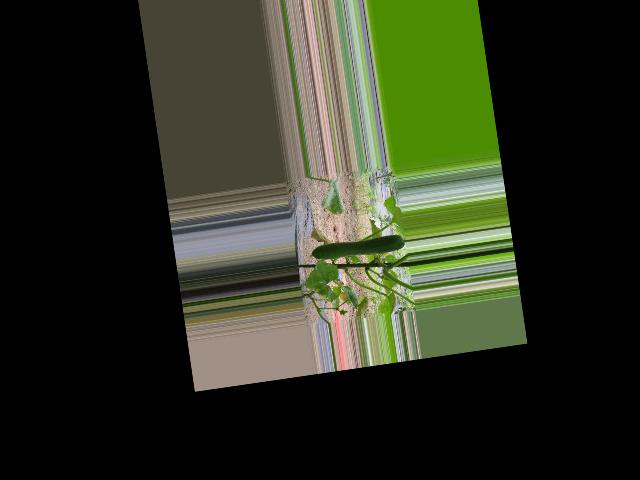cucumber: (307, 232, 405, 263)
